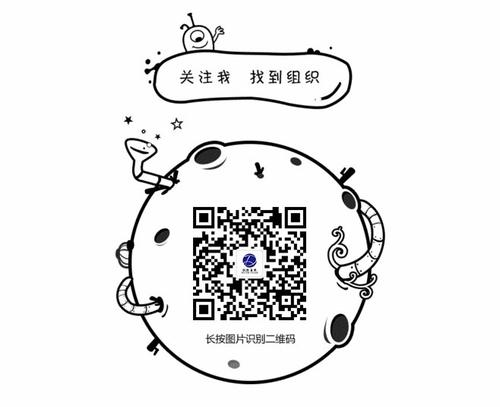QRCode: (189, 202, 312, 323)
